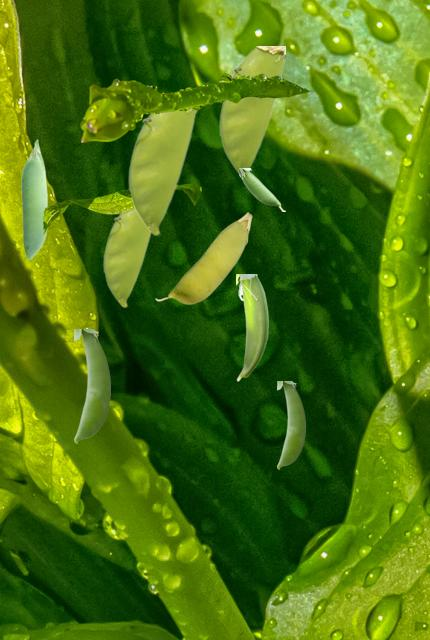pea: (155, 212, 251, 303), (128, 109, 196, 234), (219, 46, 284, 174), (103, 210, 151, 306), (74, 329, 109, 442), (236, 274, 269, 380), (21, 139, 46, 258), (277, 381, 304, 468), (239, 168, 284, 210)
